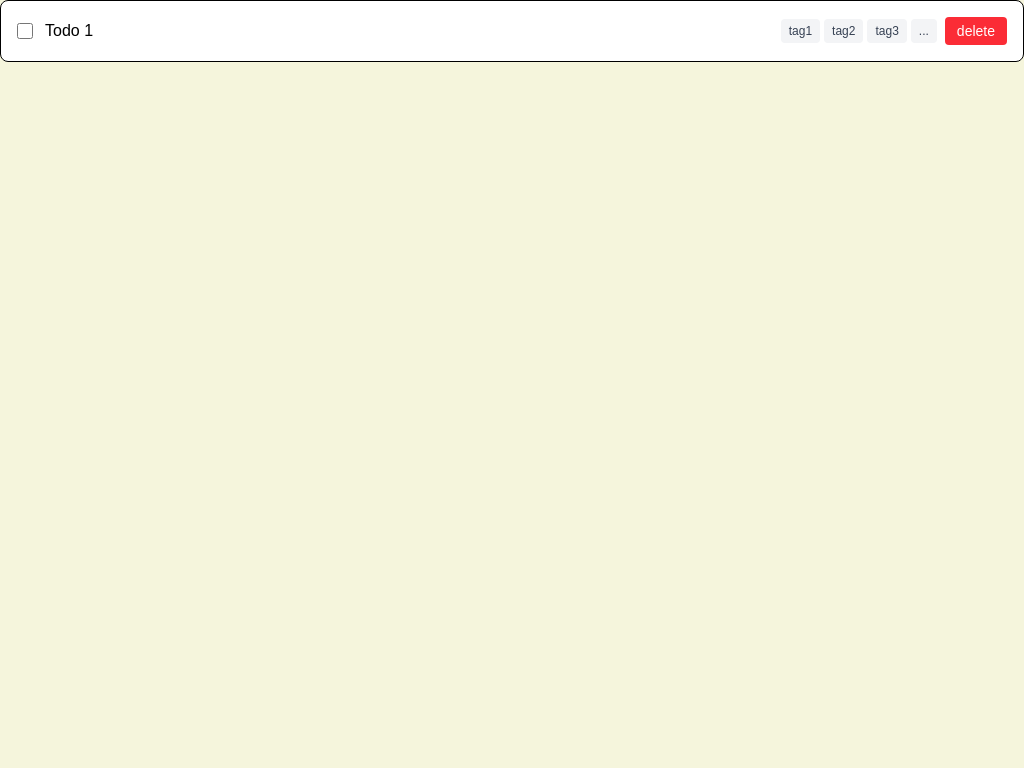
Test: TodoList Component › closes modal when Close button is clicked
What coordinates should you click on to do the following:
click the button "..."
I would click on:
 (924, 31)
Its box is x1=911 y1=19 x2=937 y2=43.
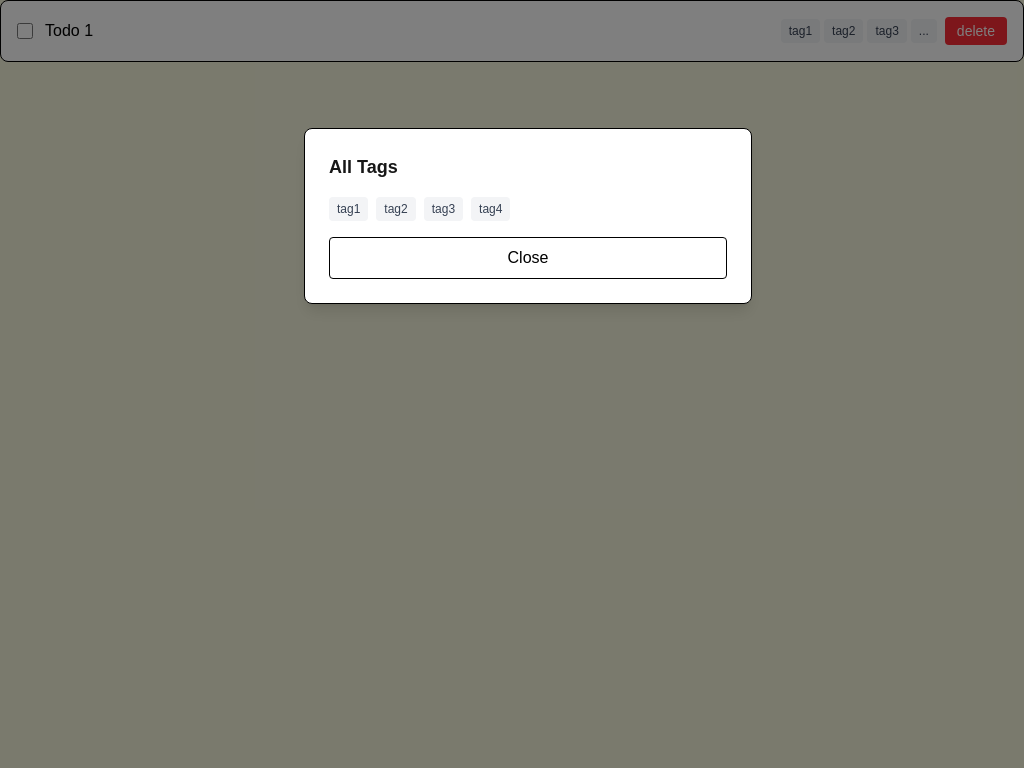
Now the heading "All Tags" is shown, box x1=329 y1=157 x2=398 y2=177
What coordinates should you click on to do the following:
click the button "Close"
I would click on:
 (528, 258)
Its box is x1=329 y1=237 x2=727 y2=279.
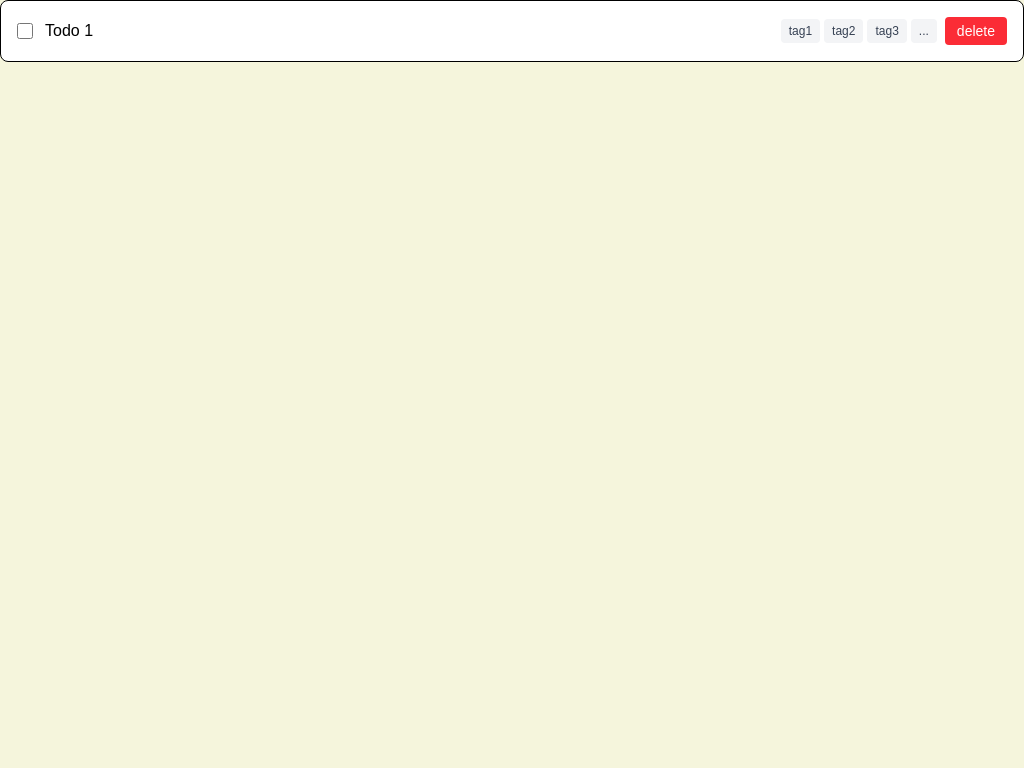
Now the heading "All Tags" is gone
